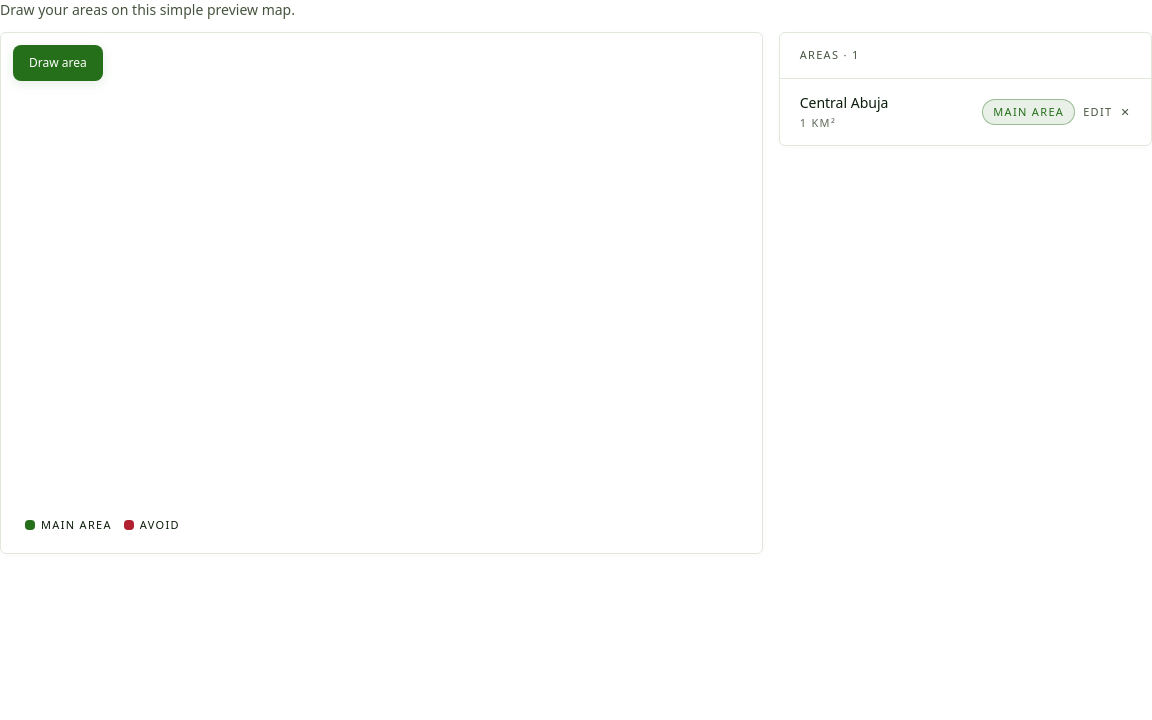
Test: ZonesEditor MapLibre compatibility › initializes the v6 named exports and attaches TerraDraw after map load
Check: the element with test id "zones-map" is shown, box left=1, top=33, right=762, bottom=553
Click the button named "Delete Central Abuja" at (1126, 112), box left=1120, top=104, right=1131, bottom=120
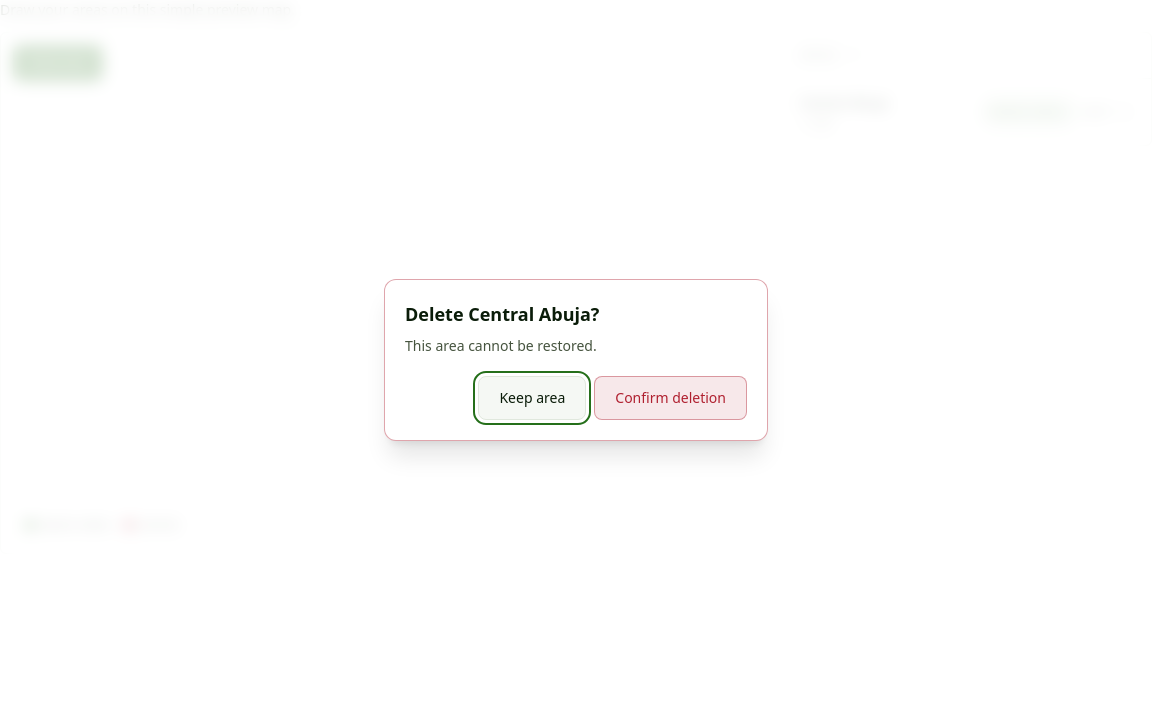
Check: the dialog shows "Delete Central Abuja?", box left=405, top=302, right=599, bottom=326
Click the button "Keep area" at (532, 398), box left=478, top=376, right=586, bottom=420
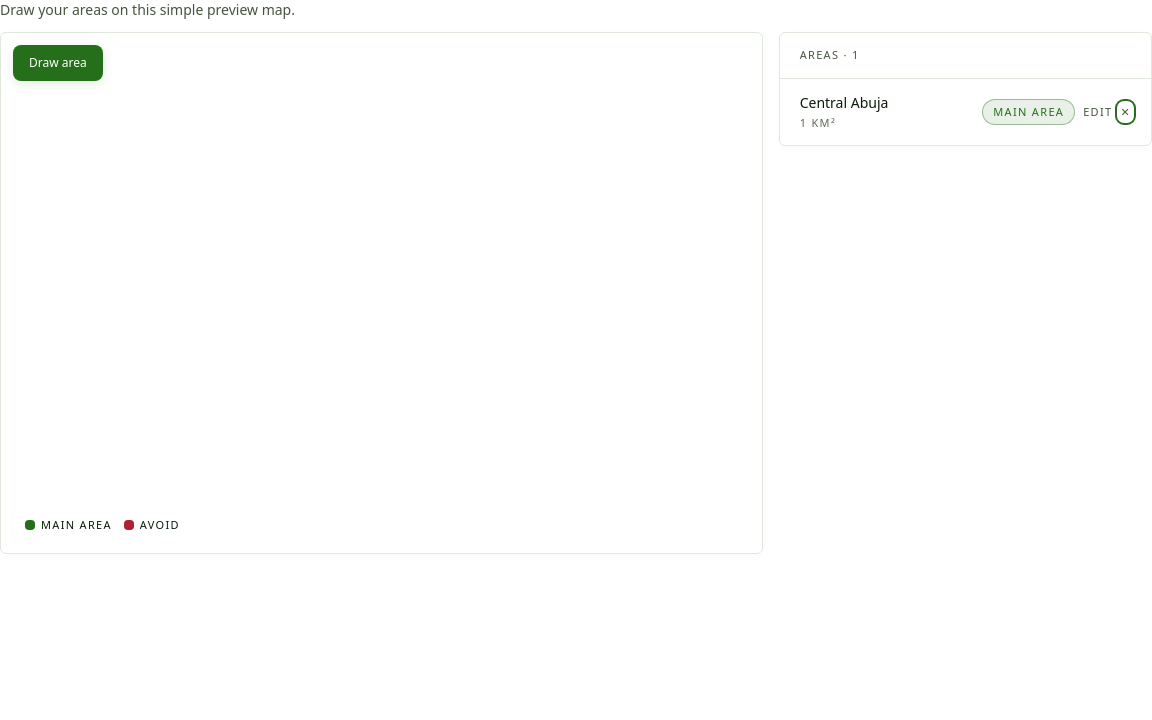
Check: the dialog is gone
